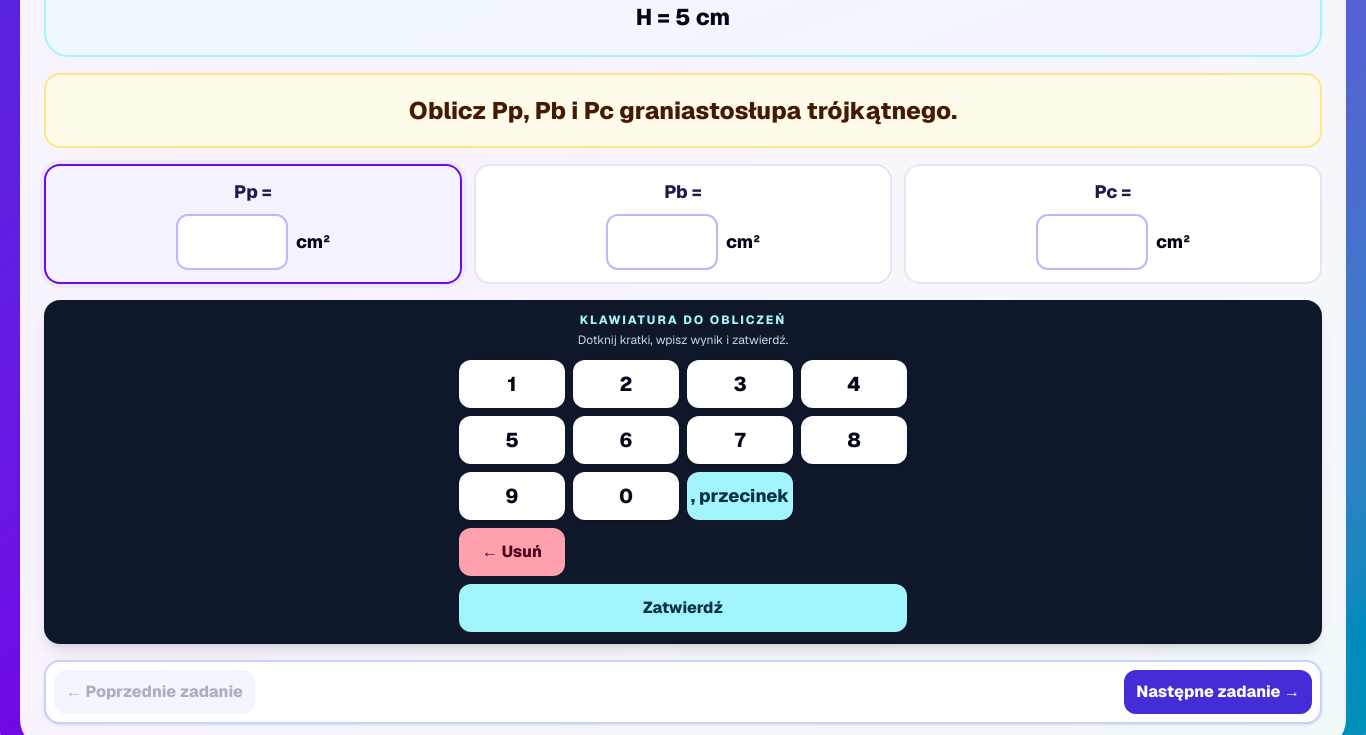
Test: SolidReviewLessonLab › zalicza zadanie z polem dopiero po uzupełnieniu wszystkich wyników
(page scrolled)
Click the button "Zatwierdź" at (683, 608), box top-left (459, 584), bottom-right (907, 632)
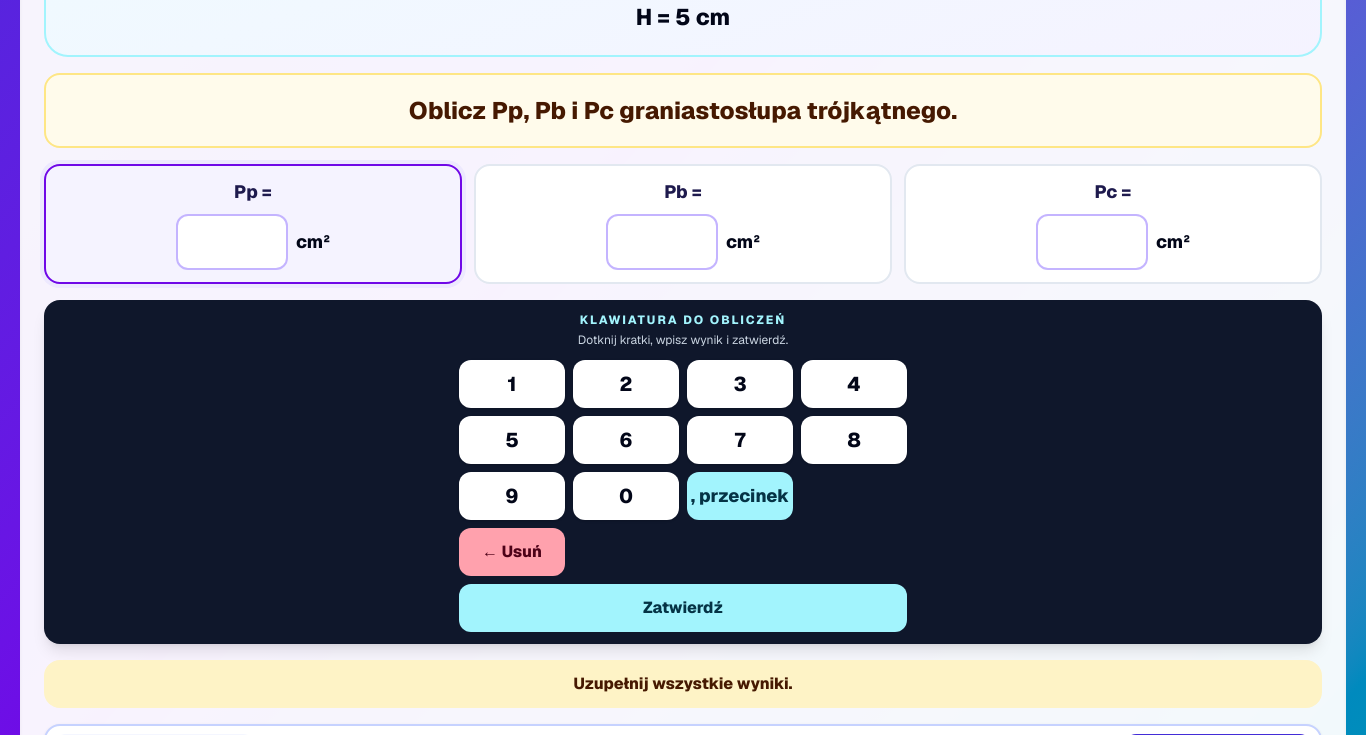
expect the text "Uzupełnij wszystkie wyniki." is shown: met, box top-left (573, 673), bottom-right (793, 694)
